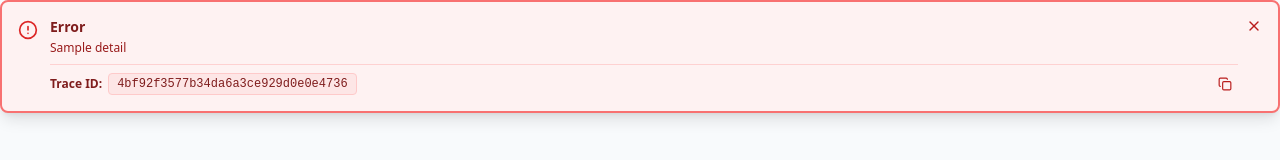
Test: ErrorToast Component & ToastContext System › Trace ID One-Click Copy Behavior › handles clipboard write failure gracefully without unhandled promise rejections
The width and height of the screenshot is (1280, 160).
Click the button named "copy trace id" at (1225, 84), box [1212,74,1238,92]
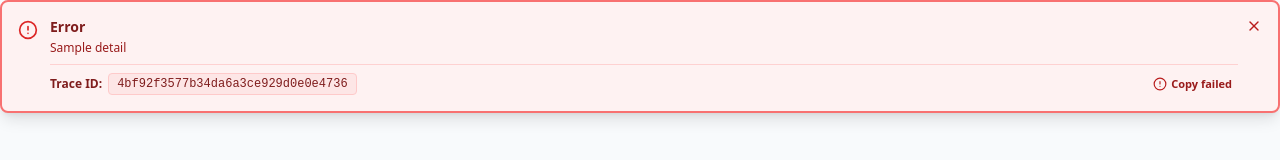
expect the text "Copy failed" is shown: met, box [1171,76,1232,92]
